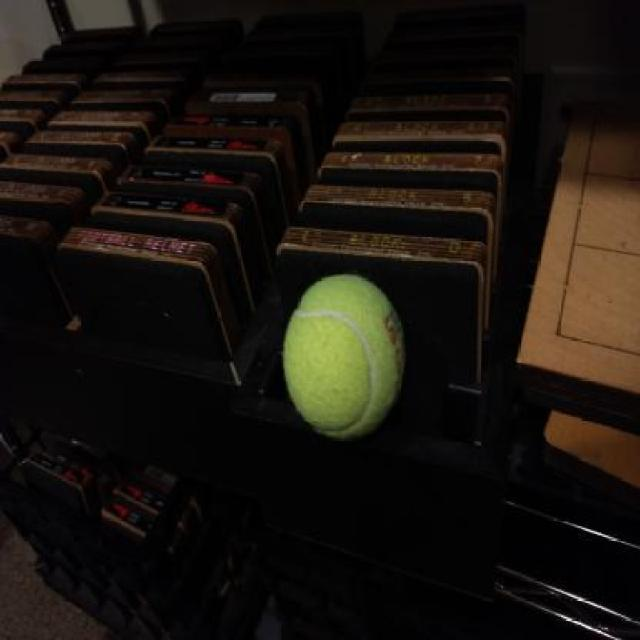tennis-ball: (285, 275, 408, 440)
